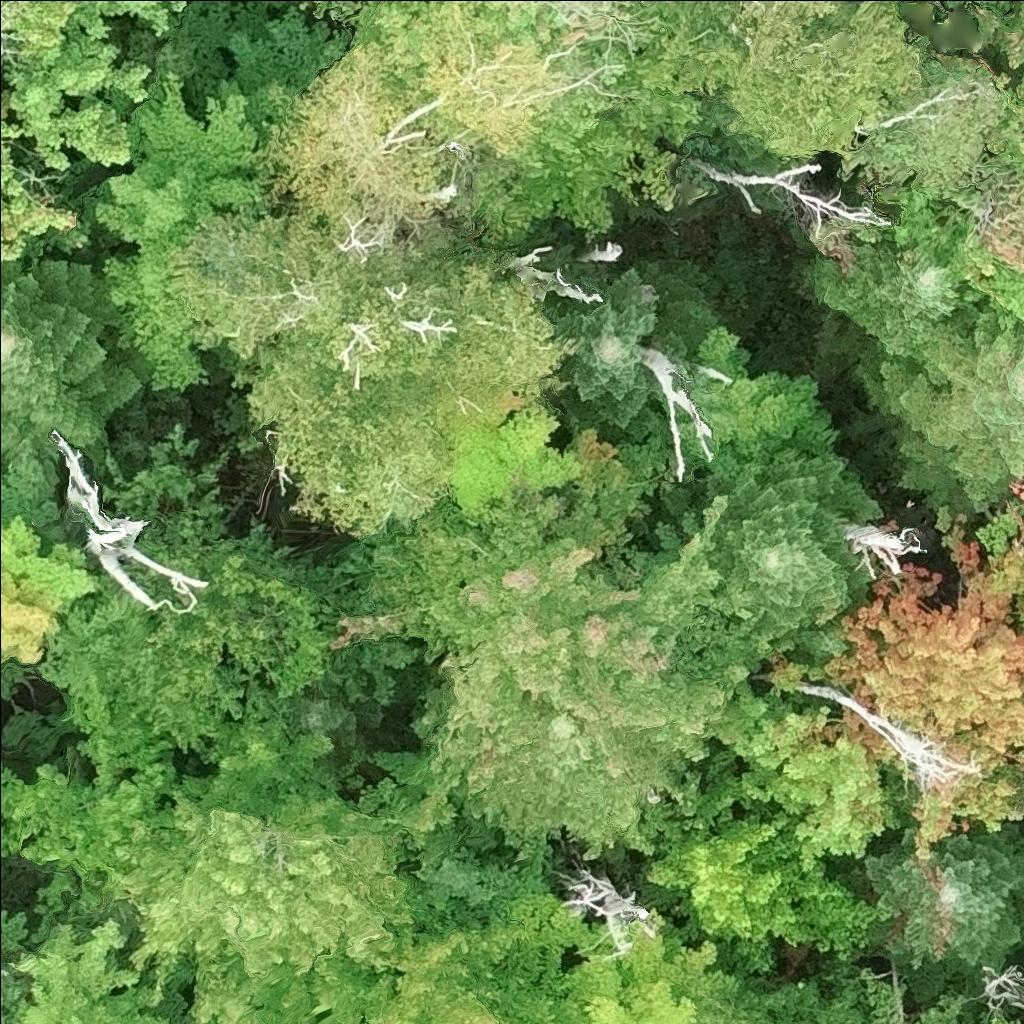crown: (333, 424, 776, 865), (231, 220, 584, 544), (110, 783, 459, 1023), (819, 504, 1023, 861), (89, 30, 272, 394), (120, 544, 340, 755), (627, 0, 917, 158), (641, 803, 886, 983), (698, 441, 887, 664), (252, 46, 483, 227), (683, 680, 898, 871), (856, 303, 1023, 512), (830, 823, 1023, 1000), (553, 258, 717, 453), (0, 253, 151, 458), (51, 430, 213, 613), (170, 204, 346, 361), (837, 32, 1006, 188), (364, 900, 559, 1023), (553, 913, 764, 1023), (419, 0, 567, 154), (0, 759, 157, 904), (179, 674, 338, 813), (689, 316, 840, 457), (440, 400, 595, 527), (810, 239, 972, 360), (6, 914, 174, 1023), (0, 59, 88, 263), (0, 515, 104, 664), (935, 195, 1023, 330), (552, 861, 657, 958), (349, 0, 448, 94), (290, 685, 383, 774), (975, 478, 1023, 631), (742, 0, 846, 64), (859, 977, 1000, 1023), (738, 975, 867, 1023), (188, 957, 275, 1023), (840, 520, 926, 582), (459, 0, 548, 41), (966, 958, 1023, 1022), (0, 950, 30, 1023), (989, 1014, 1023, 1023), (321, 1017, 336, 1023), (274, 0, 283, 3), (1022, 990, 1023, 993)
